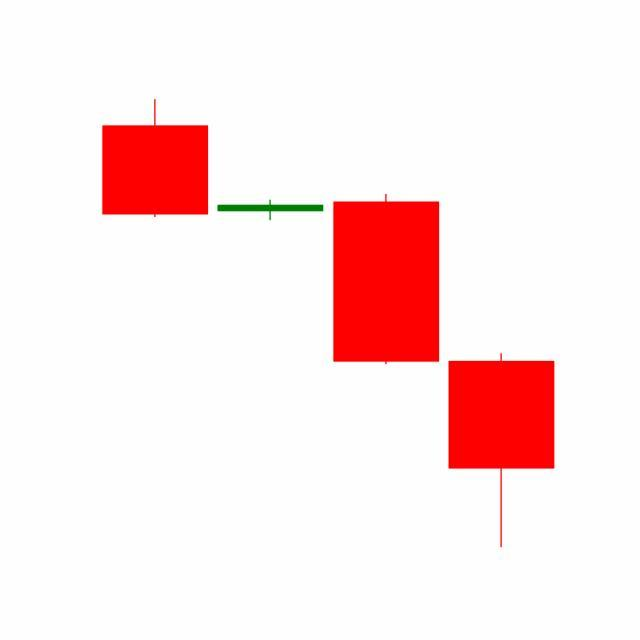Three Outside Up-Down: (211, 189, 555, 548)
